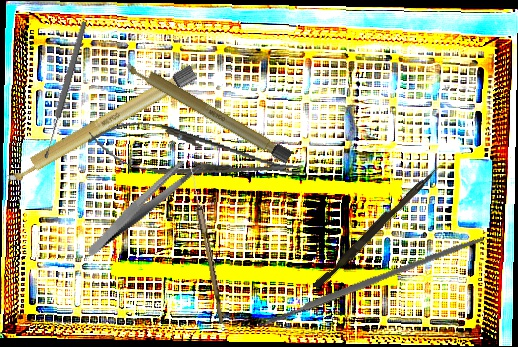Dressing Forceps: (69, 153, 216, 259)
Needle Holder: (84, 112, 305, 198)
Pusher: (312, 161, 441, 293)
Scalpel Handle: (3, 64, 198, 187), (263, 233, 486, 327), (122, 57, 294, 164)
Surgical Spoon: (186, 165, 228, 325), (41, 20, 89, 160)
